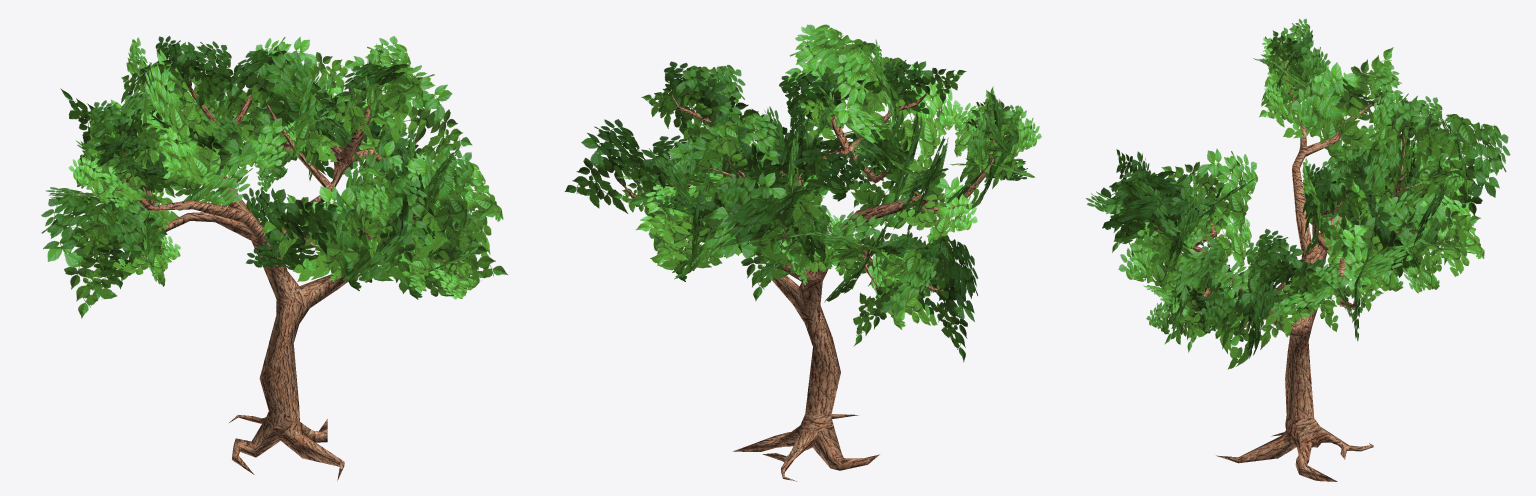
The model's file is olive-tree.glb.
The picture shows the model from 3 angles, left to right: view 1: azimuth 30°, elevation 25°; view 2: azimuth 150°, elevation 25°; view 3: azimuth 270°, elevation 25°; orthographic projection. The views are drawn at different scales.
Visible parts, largest first — view 1: ChatGPT Image Nov 20, 2025, 08_53_54 PM.001_2, Cube_0; view 2: ChatGPT Image Nov 20, 2025, 08_53_54 PM.001_2, Cube_0; view 3: ChatGPT Image Nov 20, 2025, 08_53_54 PM.001_2, Cube_0.
Boxes of the visible parts, left/top/right/bottom form: ChatGPT Image Nov 20, 2025, 08_53_54 PM.001_2: left=41, top=36, right=507, bottom=318; Cube_0: left=97, top=72, right=466, bottom=481; ChatGPT Image Nov 20, 2025, 08_53_54 PM.001_2: left=564, top=24, right=1041, bottom=362; Cube_0: left=615, top=89, right=995, bottom=481; ChatGPT Image Nov 20, 2025, 08_53_54 PM.001_2: left=1085, top=18, right=1510, bottom=369; Cube_0: left=1148, top=57, right=1459, bottom=481.
Size of the model in its own units: 10.87 by 9.41 by 10.27.
2 materials, 2 textured.
